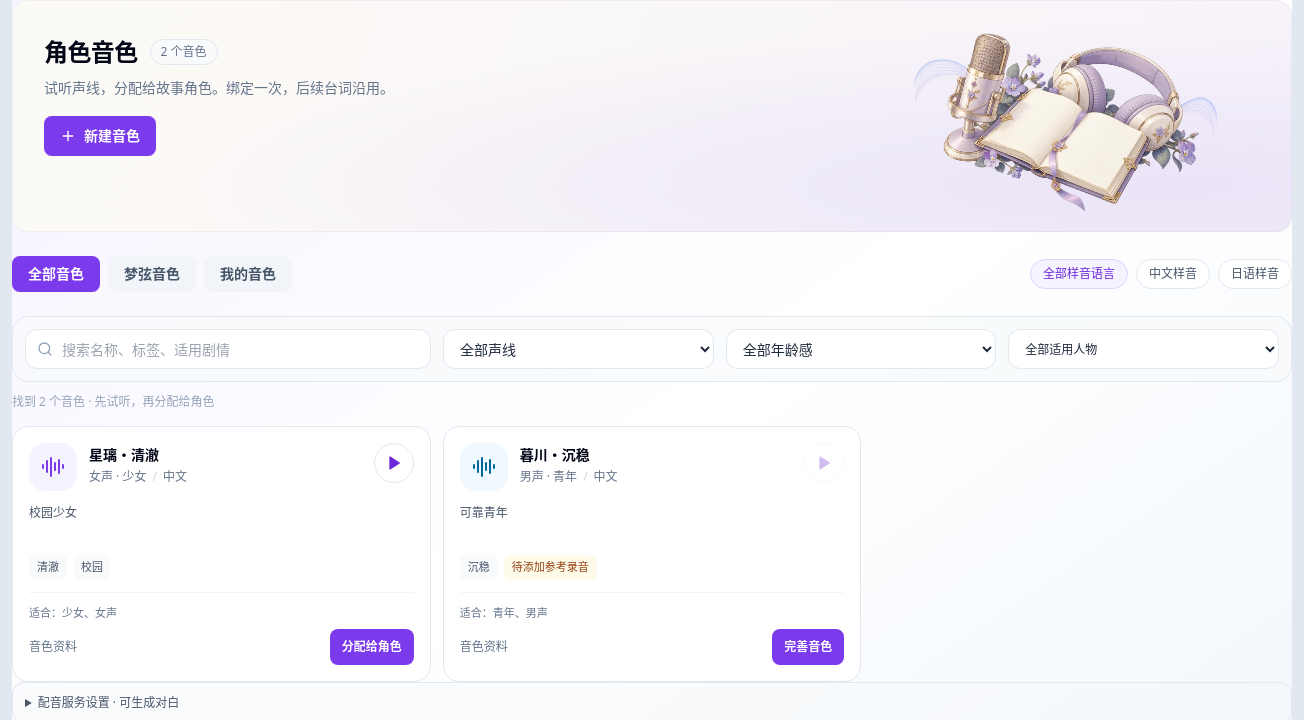
Test: VoiceLibrary › presents voices as a filterable audition catalog with a persistent preview tray
expect the element named "音色筛选" is shown: met, box left=12, top=316, right=1292, bottom=382
Select "男声" in the dropdown named "性别声线" at point(578, 349), box left=443, top=329, right=714, bottom=369
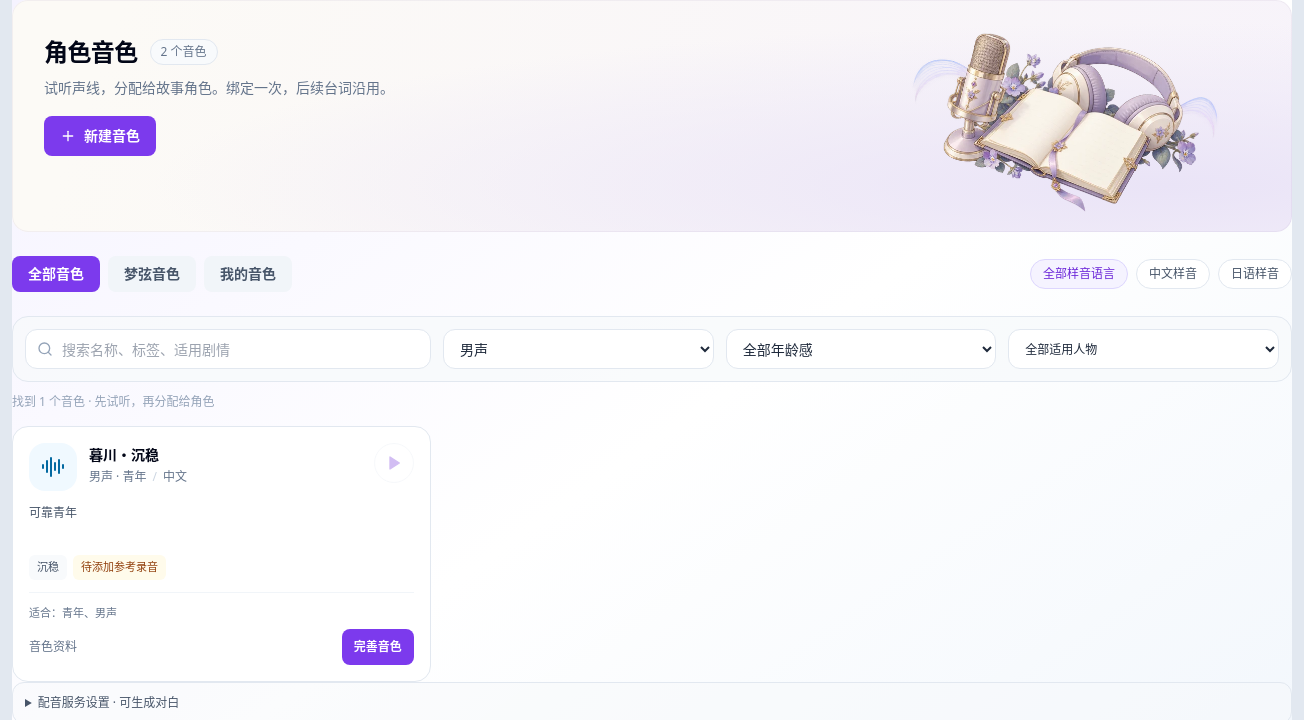
expect the heading "暮川・沉稳" is shown: met, box left=89, top=445, right=159, bottom=464
expect the heading "星璃・清澈" is gone: met
Select "女声" in the dropdown named "性别声线" at point(578, 349), box left=443, top=329, right=714, bottom=369
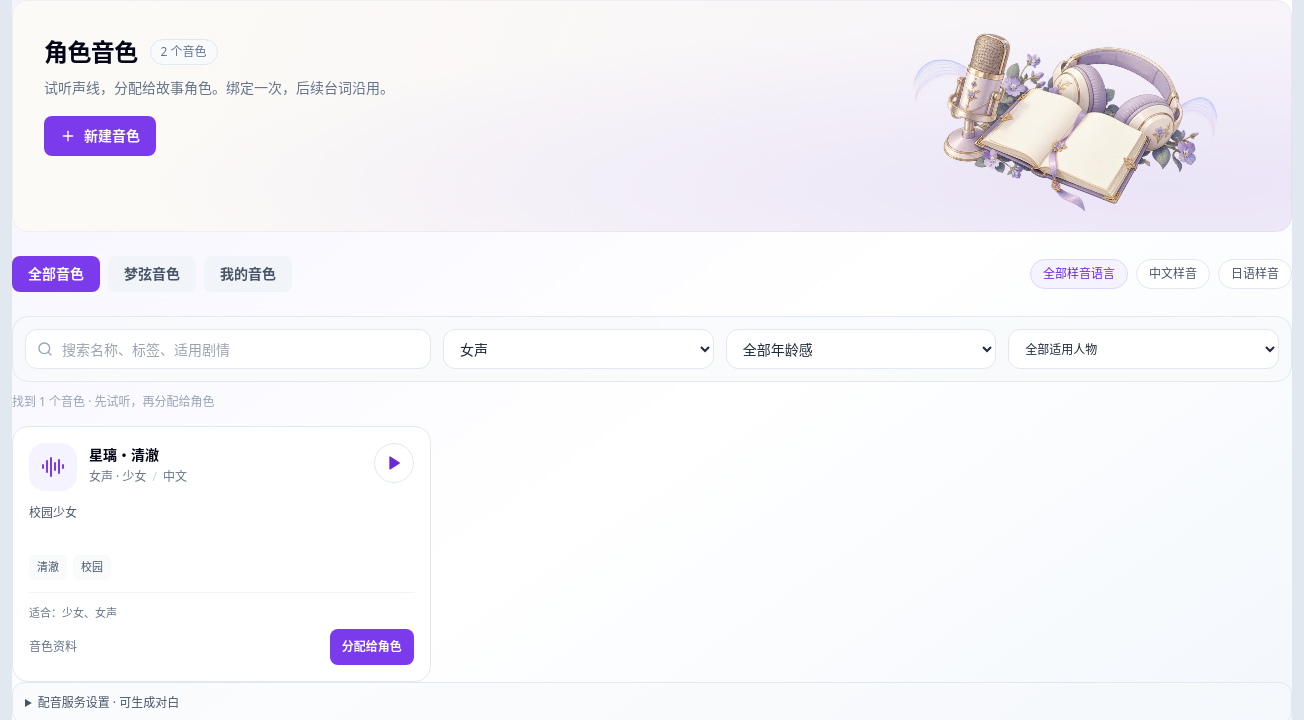
expect the heading "星璃・清澈" is shown: met, box left=89, top=445, right=159, bottom=464
expect the heading "暮川・沉稳" is gone: met
Click the button named "试听星璃・清澈" at point(394, 463), box left=374, top=443, right=414, bottom=483
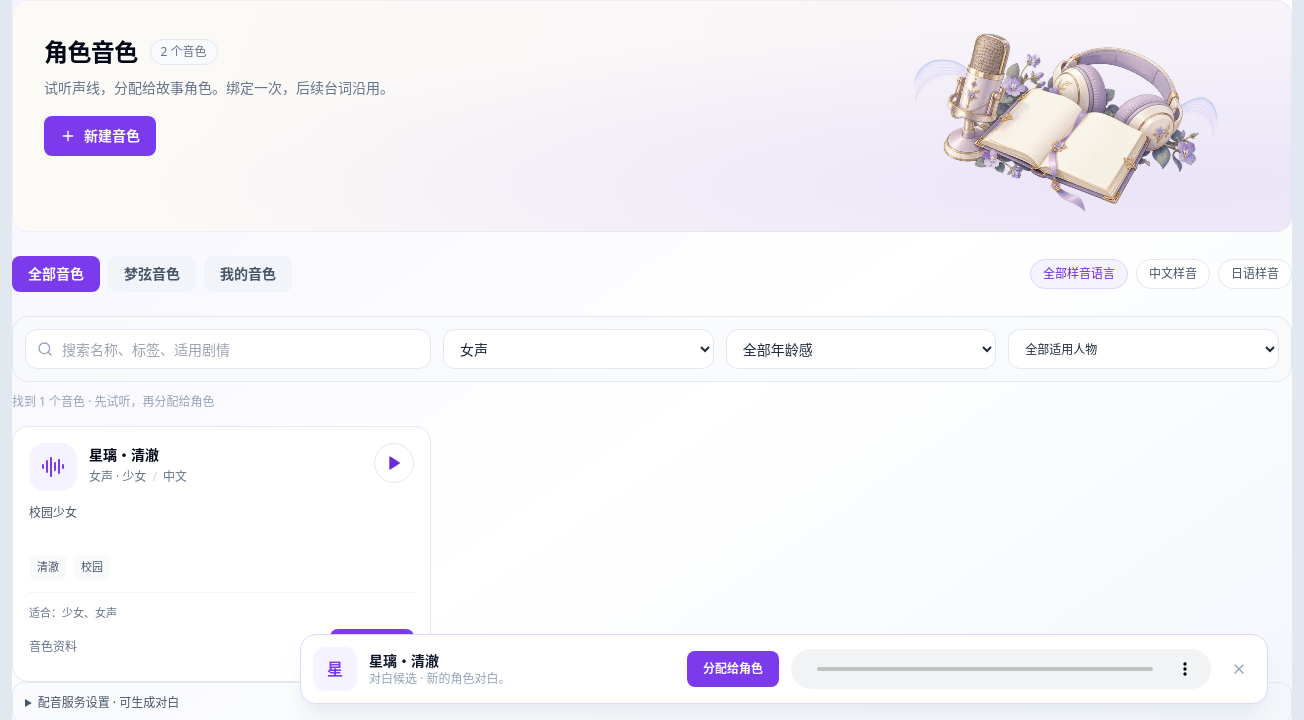
expect the element with test id "voice-player-tray" shows "星璃・清澈": met, box left=369, top=651, right=439, bottom=670
expect the element with test id "voice-player-tray" shows "对白候选": met, box left=369, top=670, right=510, bottom=687
